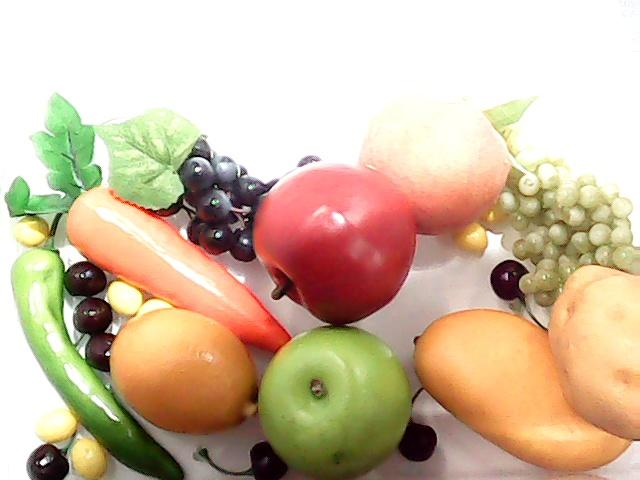apple: (249, 162, 417, 326), (256, 322, 414, 480)
carrot: (5, 90, 292, 356)
grape: (157, 131, 290, 269), (486, 164, 638, 276)
lemon: (96, 294, 276, 436)
mango: (412, 306, 626, 464)
peach: (358, 92, 510, 236)
potato: (550, 264, 640, 440)
